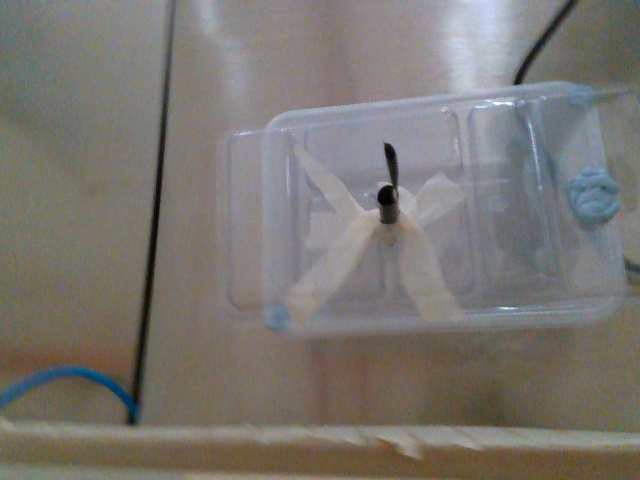test_strip: (380, 140, 398, 202)
